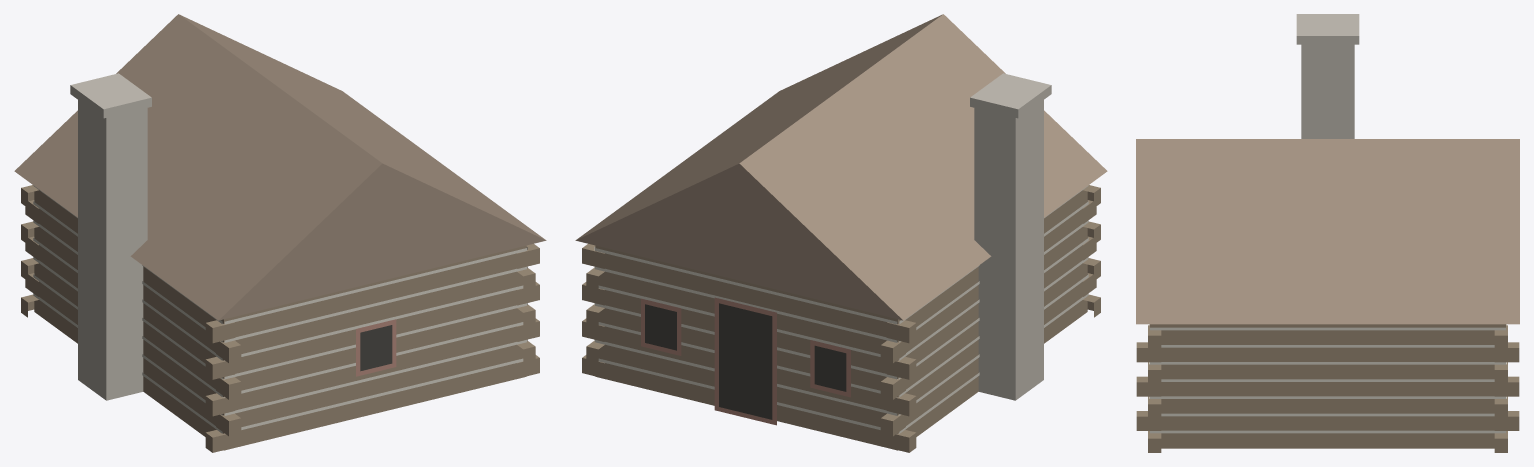
Rendered from recon_1835_blk_south_water_lasalle_d1_08__inferred_1835.glb.
The picture shows the model from 3 angles, left to right: view 1: azimuth 30°, elevation 25°; view 2: azimuth 150°, elevation 25°; view 3: azimuth 270°, elevation 25°; orthographic projection. The views are drawn at different scales.
Visible parts, largest first — view 1: recon_1835_blk_south_water_lasalle_d1_08__inferred_1835; view 2: recon_1835_blk_south_water_lasalle_d1_08__inferred_1835; view 3: recon_1835_blk_south_water_lasalle_d1_08__inferred_1835.
Part boxes in pixels (x1,y1,x2,y2): recon_1835_blk_south_water_lasalle_d1_08__inferred_1835: (14, 14, 546, 452); recon_1835_blk_south_water_lasalle_d1_08__inferred_1835: (575, 14, 1107, 452); recon_1835_blk_south_water_lasalle_d1_08__inferred_1835: (1136, 14, 1519, 452).
Bounding box in the file's own units: 6.96 × 5.54 × 6.89.
